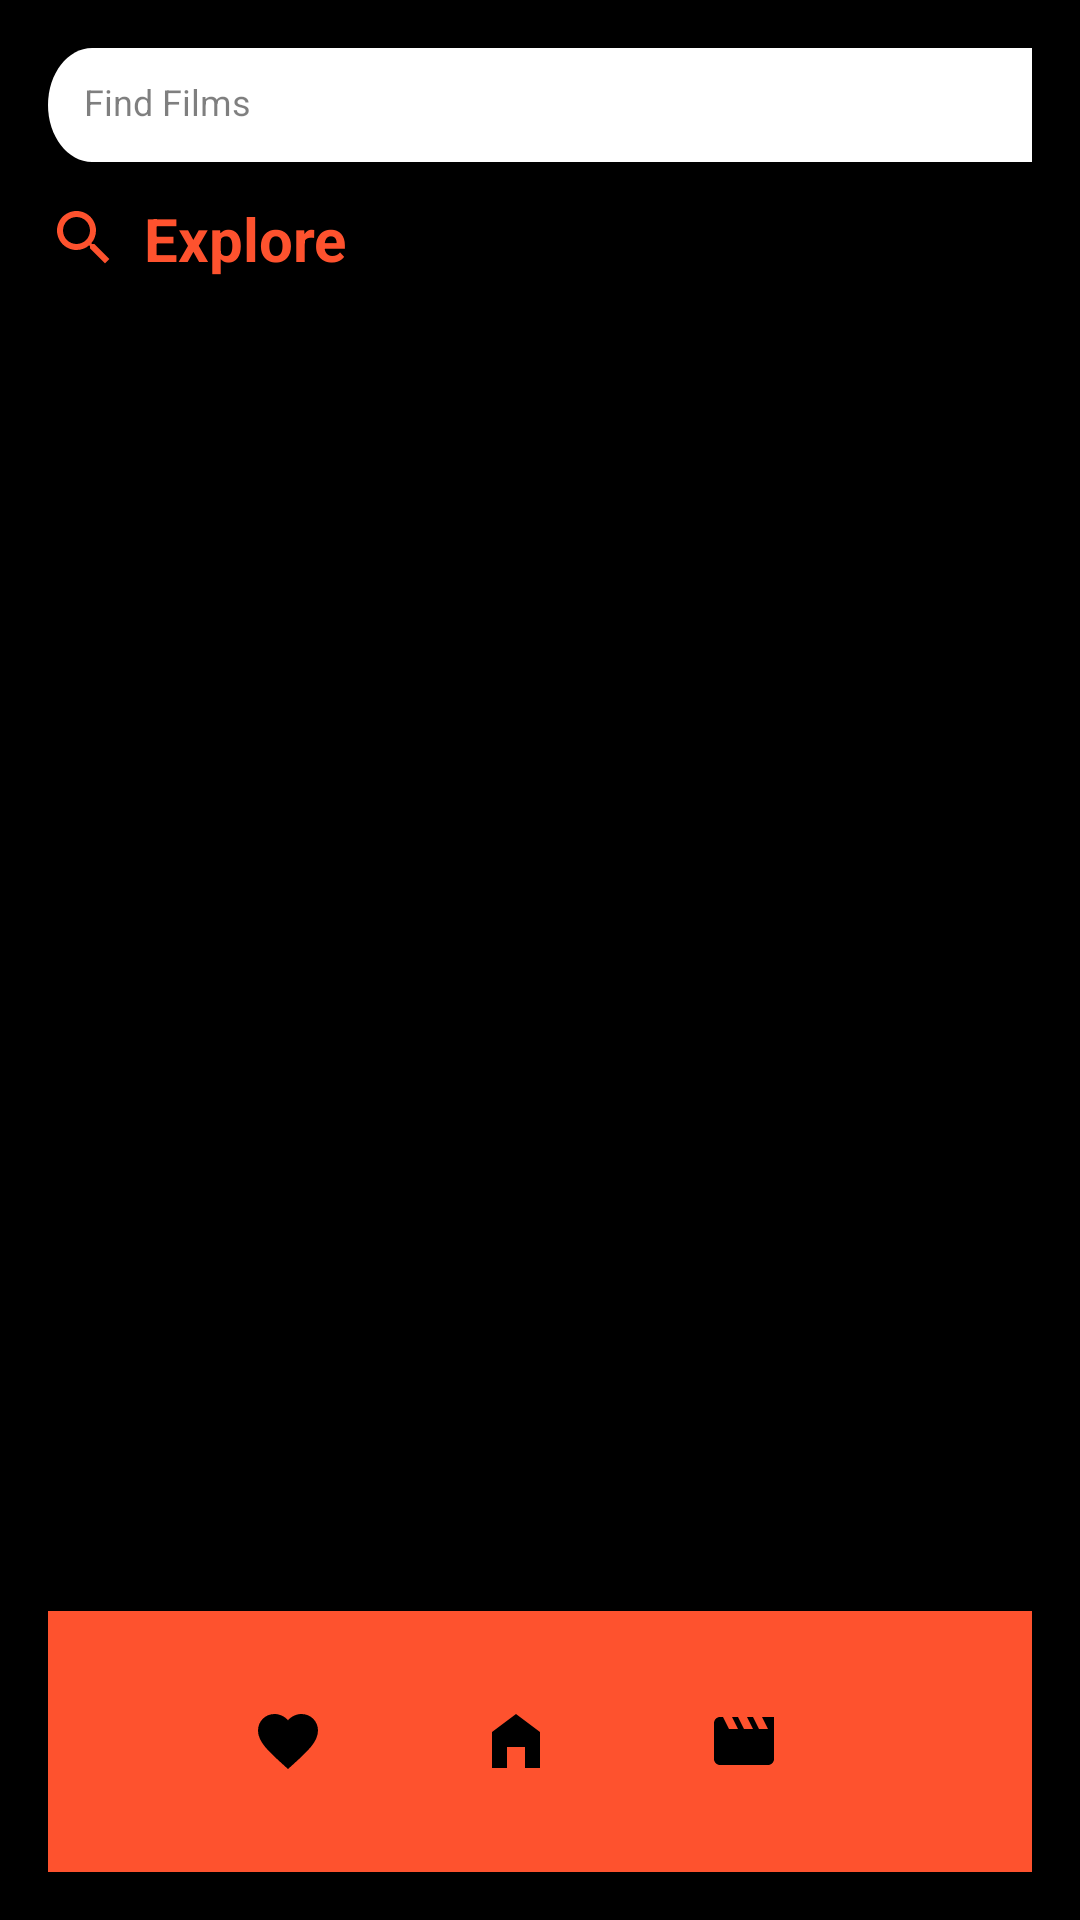

Screen size 1080×1920. Icon name, then its box in pixels as [x1=x1, y1=y1, x2=x2, y2=y2]:
claqueta: [x1=714, y1=1717, x2=774, y2=1765]
heart: [x1=258, y1=1714, x2=318, y2=1769]
home: [x1=492, y1=1714, x2=540, y2=1768]
